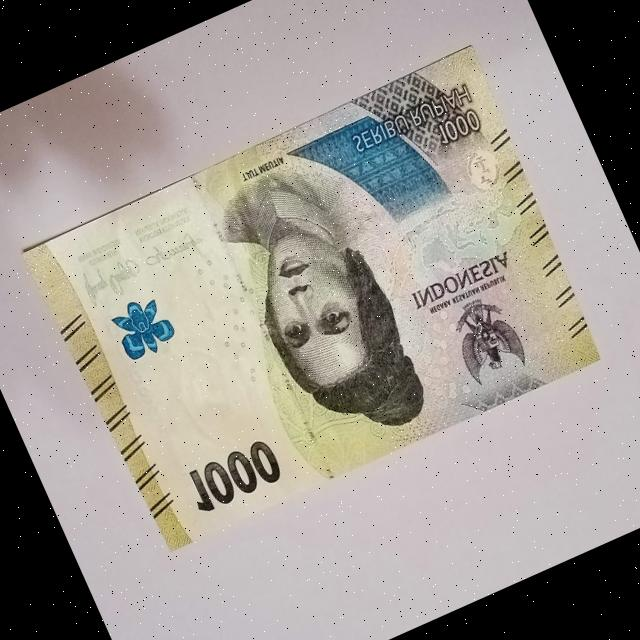1K: (6, 33, 622, 571)
